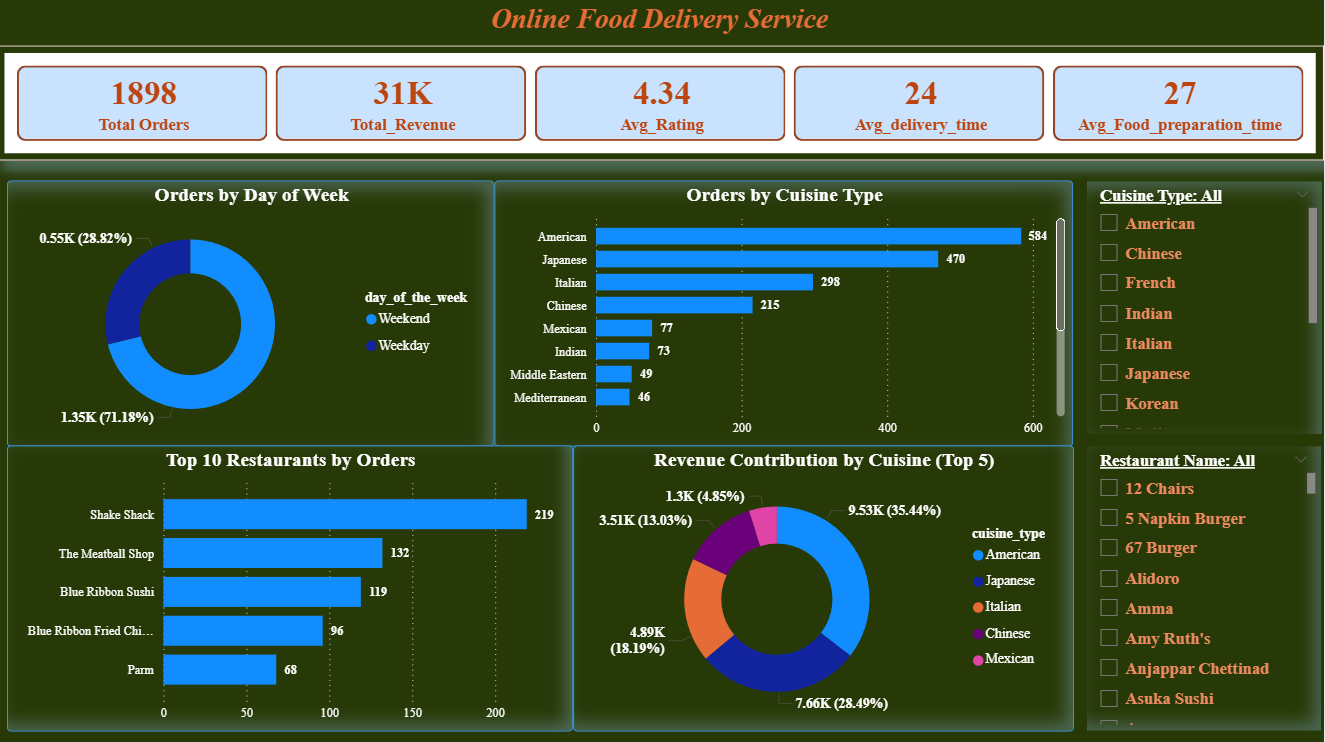

Layout of this report page (visuals, bound fields, positions):
{"tool":"powerbi","page":{"name":"Page 1","canvas":[1280,720],"ordinal":0},"visuals":[{"type":"donutChart","title":"Orders by Day of Week","fields":{"Category":["foodhub_order.day_of_the_week"],"Y":["CountNonNull(foodhub_order.order_id)"]},"box":[9.6,175.6,470.7,256.6],"z":0},{"type":"barChart","title":"Orders by Cuisine Type","fields":{"Category":["foodhub_order.cuisine_type"],"Y":["CountNonNull(foodhub_order.order_id)"]},"box":[480.3,175.6,558.5,256.6],"z":1000},{"type":"donutChart","title":"Revenue Contribution by Cuisine (Top 5)","fields":{"Category":["foodhub_order.cuisine_type"],"Y":["foodhub_order.Total_Revenue"]},"box":[555.7,432.2,483,275.8],"z":2000},{"type":"barChart","title":"Top 10 Restaurants by Orders","fields":{"Category":["foodhub_order.restaurant_name"],"Y":["CountNonNull(foodhub_order.order_id)"]},"box":[9.6,432.2,546.1,275.8],"z":3000},{"type":"cardVisual","fields":{"Data":["CountNonNull(foodhub_order.order_id)","foodhub_order.Total_Revenue","Avg(foodhub_order.rating)","Avg(foodhub_order.delivery_time)","Avg(foodhub_order.food_preparation_time)"]},"box":[0,45.3,1280.3,111.1],"z":4000},{"type":"textbox","box":[0,0,1278.9,45.3],"z":5000},{"type":"slicer","fields":{"Values":["foodhub_order.cuisine_type"]},"box":[1051.1,175.6,229.2,245.6],"z":5001},{"type":"slicer","fields":{"Values":["foodhub_order.restaurant_name"]},"box":[1051.1,432.2,227.8,275.8],"z":5002}]}

Visuals, with their boxes in screenshot pixels (x1, y1, x2, y2), scaled from the page's 1280x720 canvas onto the 1325x742 screenshot:
"Orders by Day of Week" donutChart: <bbox>10, 181, 497, 445</bbox>
"Orders by Cuisine Type" barChart: <bbox>497, 181, 1075, 445</bbox>
"Revenue Contribution by Cuisine (Top 5)" donutChart: <bbox>575, 445, 1075, 730</bbox>
"Top 10 Restaurants by Orders" barChart: <bbox>10, 445, 575, 730</bbox>
cardVisual - CountNonNull(foodhub_order.order_id) x foodhub_order.Total_Revenue: <bbox>0, 47, 1324, 161</bbox>
textbox: <bbox>0, 0, 1324, 47</bbox>
slicer - foodhub_order.cuisine_type: <bbox>1088, 181, 1324, 434</bbox>
slicer - foodhub_order.restaurant_name: <bbox>1088, 445, 1324, 730</bbox>
